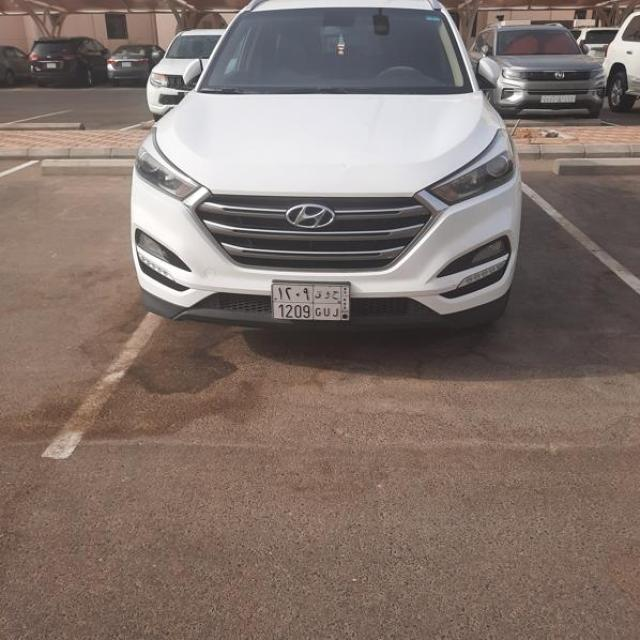license_plate: (273, 283, 351, 321), (541, 94, 576, 103), (122, 62, 131, 67), (47, 64, 56, 68)
